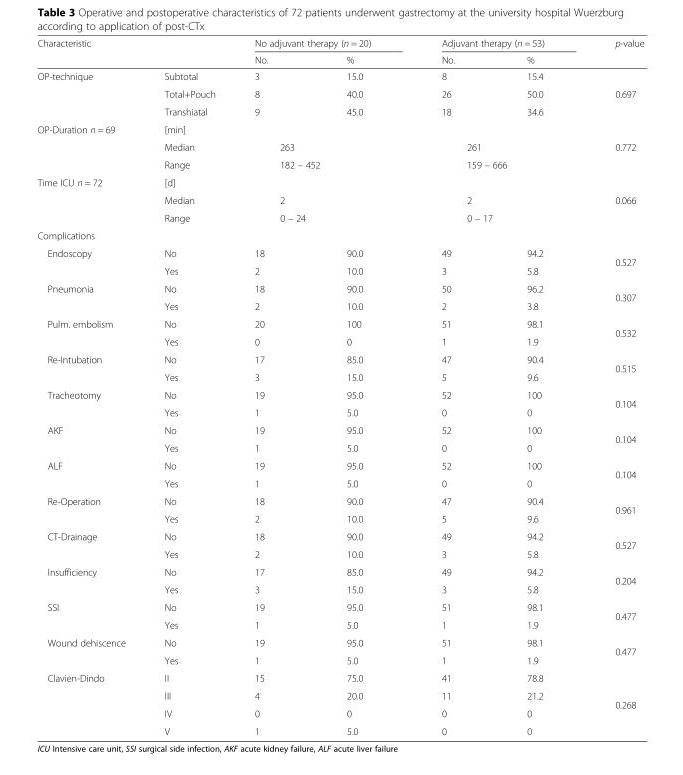table: (36, 37, 643, 736)
table column: (36, 37, 144, 736), (306, 37, 405, 736), (144, 37, 234, 736), (490, 37, 579, 736), (405, 37, 490, 736), (234, 37, 306, 736), (579, 37, 643, 736)
table column header: (36, 37, 643, 67)
table projected row header: (36, 226, 643, 244)
table row: (36, 84, 643, 102), (36, 102, 643, 120), (36, 137, 643, 155), (36, 155, 643, 173), (36, 190, 643, 208), (36, 208, 643, 226), (36, 226, 643, 244), (36, 261, 643, 279), (36, 279, 643, 297), (36, 314, 643, 332), (36, 332, 643, 350), (36, 367, 643, 385), (36, 385, 643, 403), (36, 403, 643, 421), (36, 438, 643, 456), (36, 456, 643, 474), (36, 491, 643, 509), (36, 509, 643, 527), (36, 527, 643, 545), (36, 562, 643, 580), (36, 580, 643, 598), (36, 615, 643, 633), (36, 633, 643, 651), (36, 668, 643, 686), (36, 686, 643, 704), (36, 704, 643, 722), (36, 50, 643, 67), (36, 67, 643, 84), (36, 120, 643, 137), (36, 173, 643, 190), (36, 244, 643, 261), (36, 297, 643, 314), (36, 350, 643, 367), (36, 421, 643, 438), (36, 474, 643, 491), (36, 545, 643, 562), (36, 598, 643, 615), (36, 651, 643, 668), (36, 722, 643, 736), (36, 37, 643, 50)
table spanning cell: (36, 668, 144, 736), (36, 67, 144, 120), (36, 120, 144, 173), (36, 173, 144, 226), (36, 314, 144, 350), (36, 385, 144, 421), (36, 491, 144, 527), (36, 562, 144, 598), (36, 244, 144, 279), (36, 279, 144, 314), (36, 350, 144, 385), (36, 421, 144, 456), (36, 456, 144, 491), (36, 527, 144, 562), (36, 598, 144, 633), (36, 633, 144, 668), (36, 37, 144, 67), (405, 137, 579, 155), (405, 155, 579, 173), (405, 190, 579, 208), (405, 208, 579, 226), (234, 137, 405, 155), (234, 155, 405, 173), (234, 190, 405, 208), (234, 208, 405, 226), (579, 314, 643, 350), (579, 385, 643, 421), (579, 491, 643, 527), (579, 562, 643, 598), (579, 686, 643, 722), (405, 37, 579, 50), (579, 244, 643, 279), (579, 279, 643, 314), (579, 350, 643, 385), (579, 421, 643, 456), (579, 456, 643, 491), (579, 527, 643, 562), (579, 598, 643, 633), (579, 633, 643, 668), (234, 37, 405, 50), (579, 37, 643, 67)
